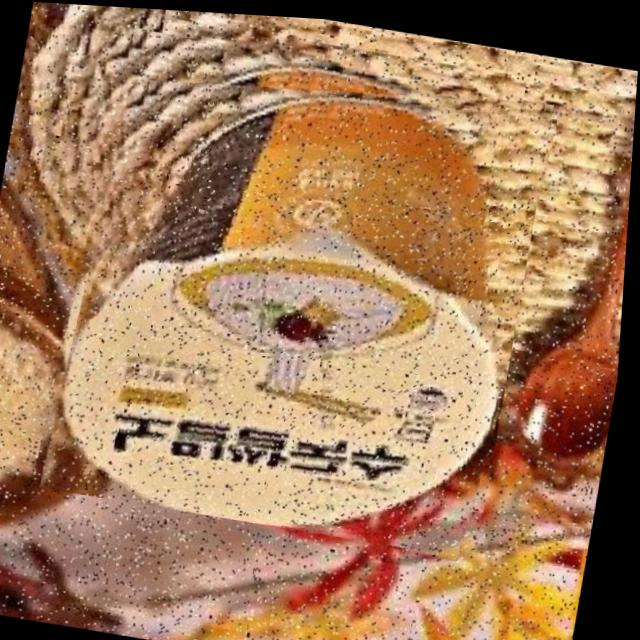Miscellaneous: (39, 24, 556, 554)
